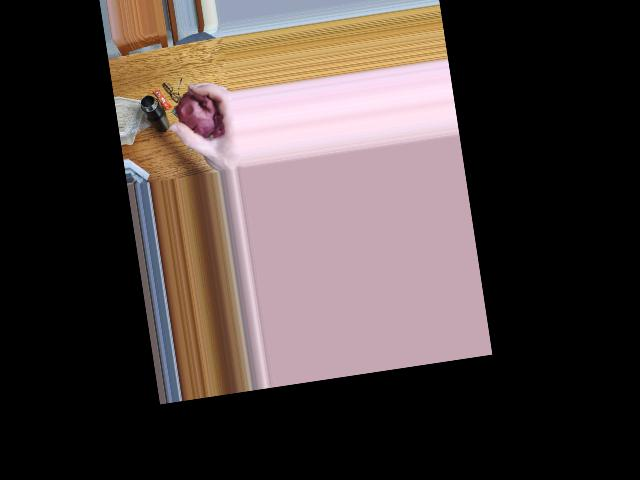onion: (180, 89, 215, 131)
